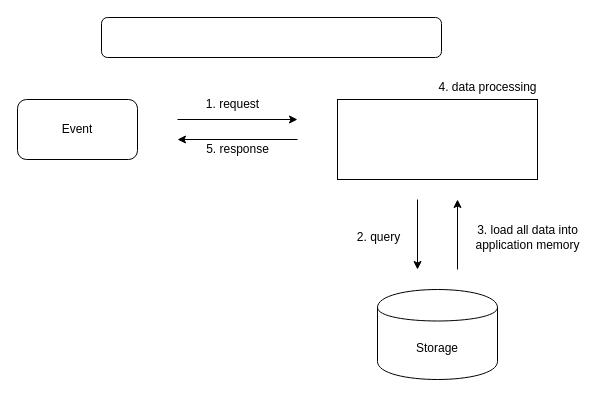
Image size: 605x397. Some labels were removed from this diagram. The box of each missing label's shape, as (x1, y1, x2, y2) in pixels:
Application: (336, 98, 538, 180)
Traditional Data Processing: (100, 16, 442, 58)
